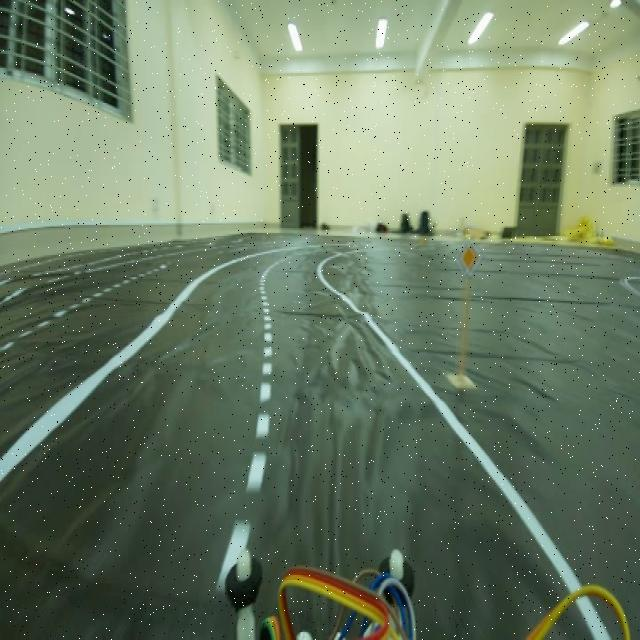priority: (456, 235, 478, 278)
